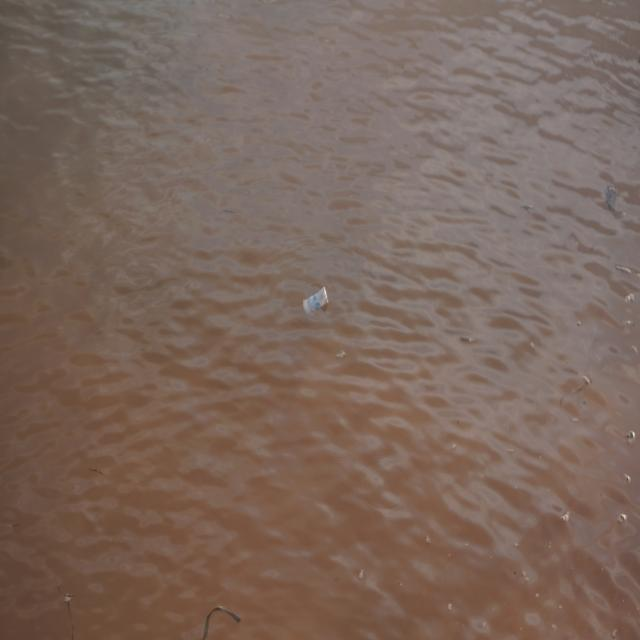Bungkus Minuman: (300, 283, 332, 322)
